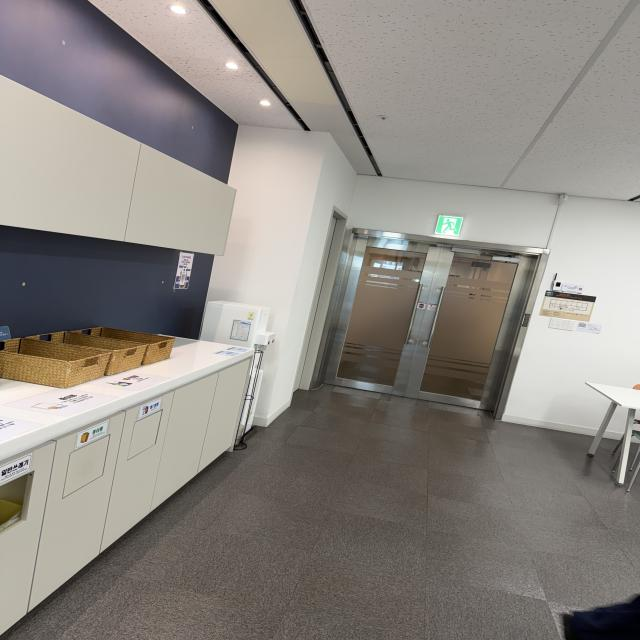rear_door: (319, 236, 540, 415)
